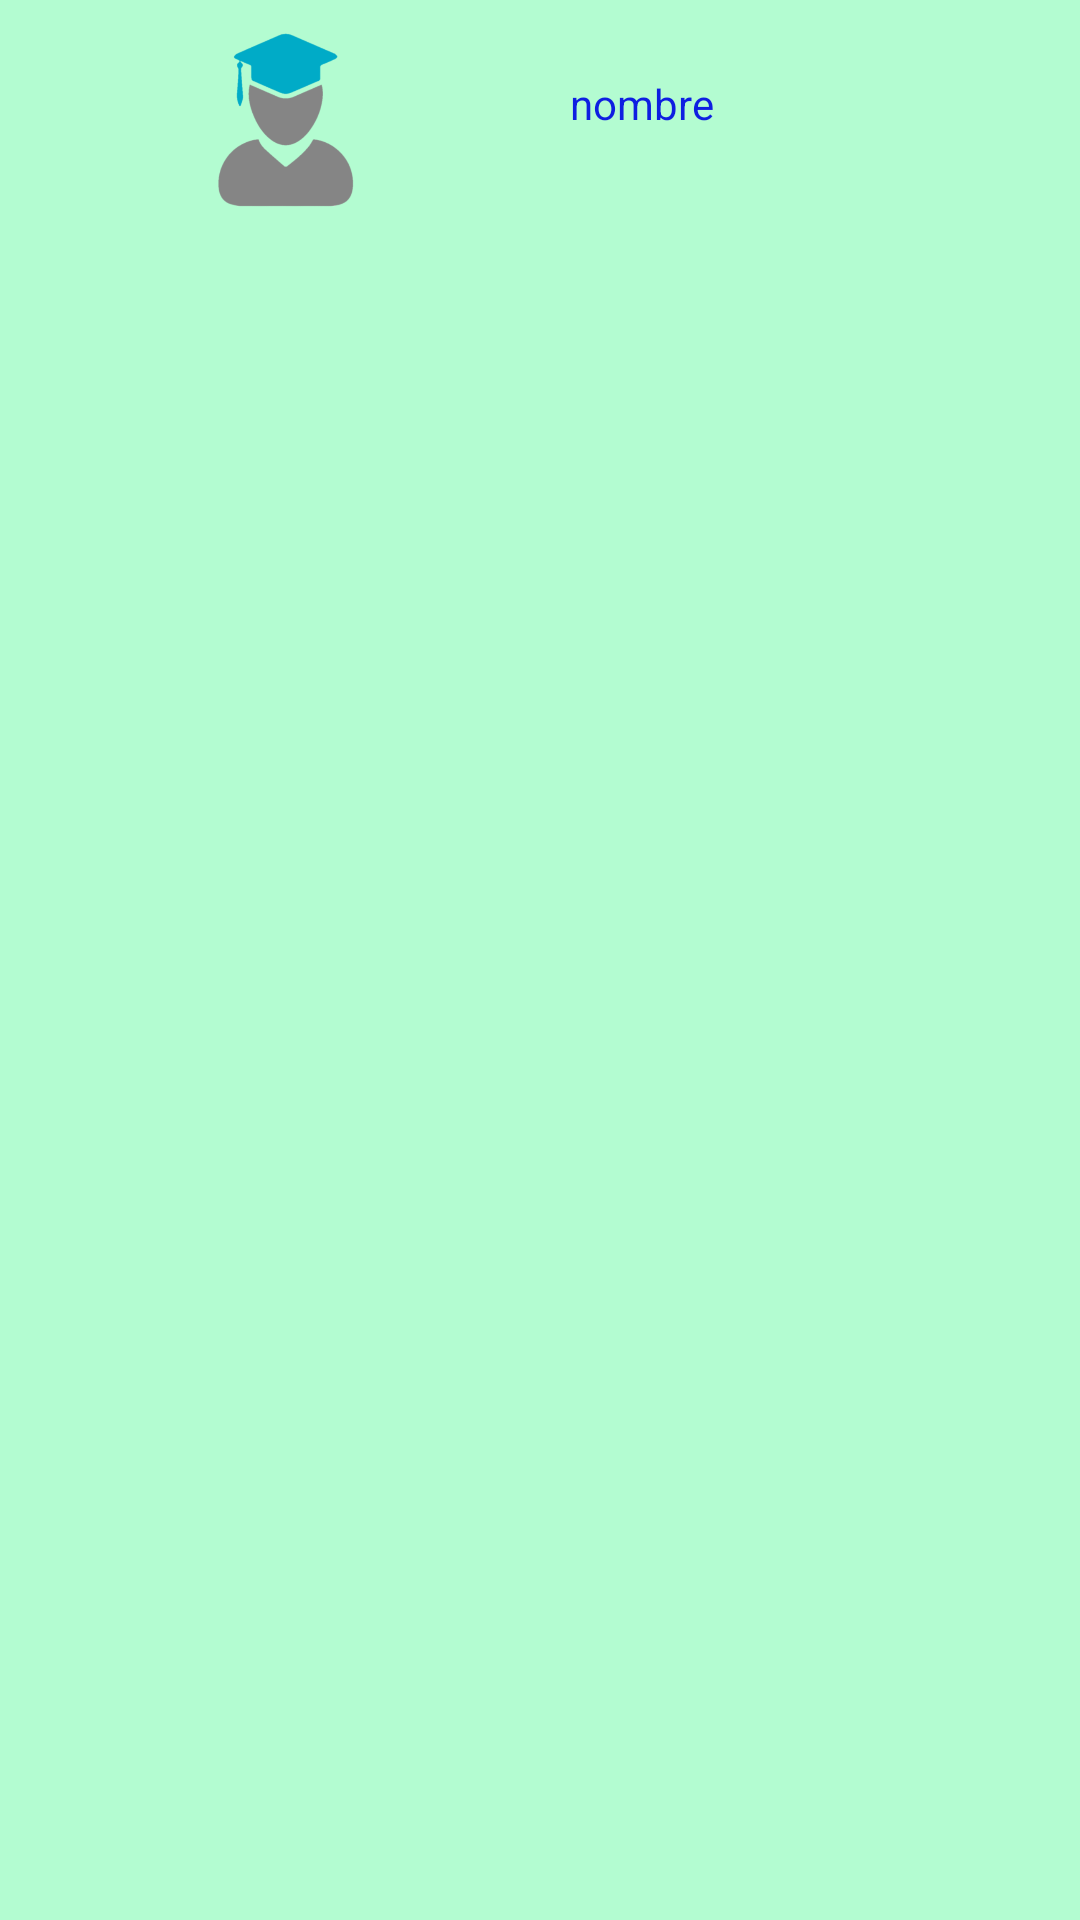

Named icons in this screenshot (1080w x 1920h) and their centers, (x,y):
alumno: (285,119)
